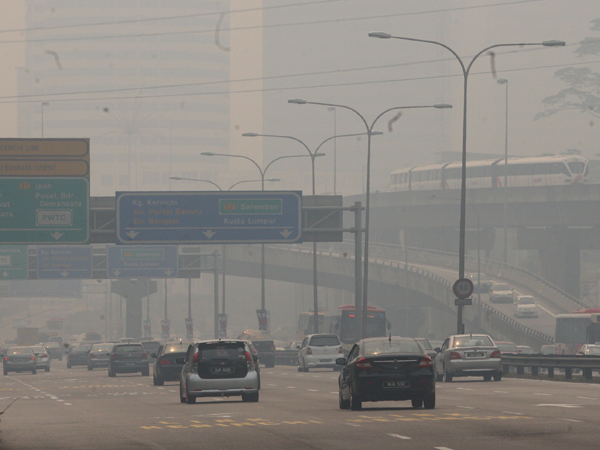bus: (299, 305, 392, 362), (553, 309, 600, 374)
car: (335, 335, 437, 411), (175, 338, 260, 404), (431, 334, 503, 382), (382, 337, 439, 382), (150, 339, 203, 387), (294, 333, 346, 372), (105, 341, 150, 377), (233, 335, 275, 367), (484, 340, 523, 374), (1, 346, 39, 376), (86, 343, 120, 370), (573, 342, 600, 375), (20, 346, 52, 372), (538, 344, 567, 371), (511, 345, 538, 372), (136, 340, 163, 365), (65, 345, 93, 369), (513, 294, 539, 319), (465, 272, 492, 294), (489, 282, 514, 304), (40, 342, 63, 362), (46, 336, 67, 357)
